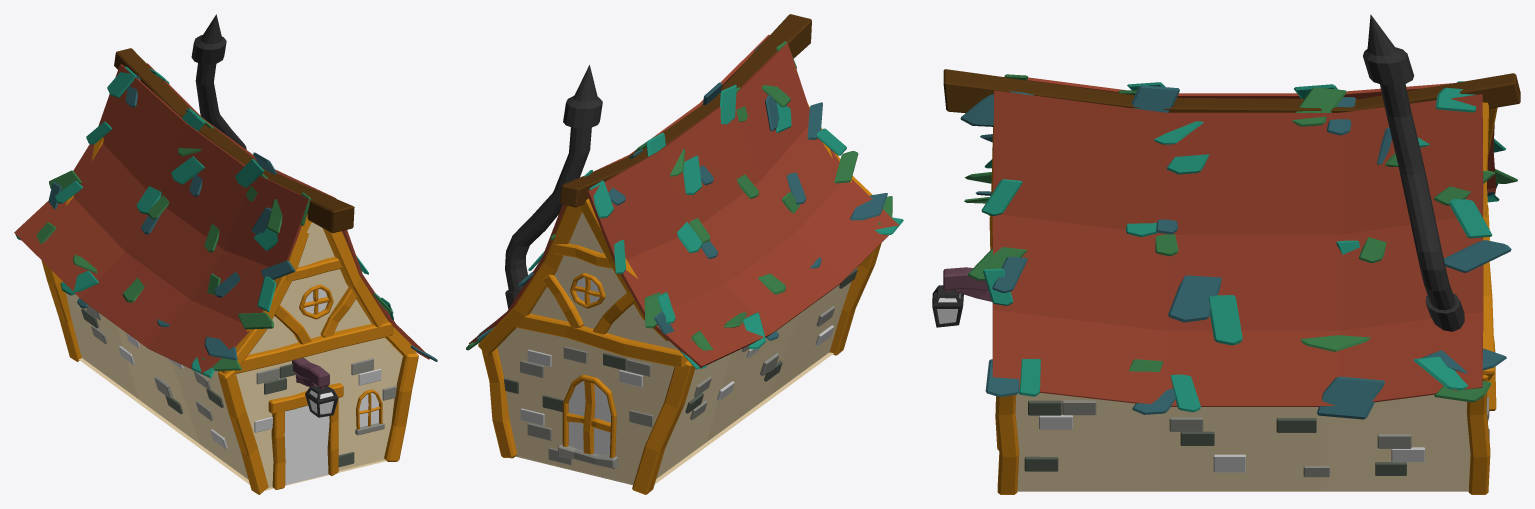
Rendered from lowpoly_cottagehouse1.fbx.
3 views of the same model, side by side, from view 1: azimuth 30°, elevation 25°; view 2: azimuth 150°, elevation 25°; view 3: azimuth 270°, elevation 25° (orthographic). The views are drawn at different scales.
Parts seen in each view (by area): view 1: Roof2, Wall1, Wall4, Cube.183, Plane.031, Beam.006, Cylinder.001, Beam.003, Beam.010, Beam.002, Beam.011, Cube.176 (+16 smaller); view 2: Roof2, Wall3, Wall4, Cylinder.001, Cube.183, Cube.177, Cube.176, Cube.178, Beam.001, Plane.025, Beam.003, Plane.024 (+15 smaller); view 3: Roof1, Wall2, Cylinder.001, Cube.183, Cube.317, Beam.002, Beam.001, Roof2, Cube.298, Cube.178, Cube.299, Cube.316 (+18 smaller).
Part boxes in pixels (x1,y1,x2,y2): Roof2: [14, 64, 309, 373]; Wall1: [236, 222, 402, 488]; Wall4: [66, 293, 248, 479]; Cube.183: [114, 48, 354, 233]; Plane.031: [284, 405, 329, 484]; Beam.006: [218, 322, 393, 373]; Cylinder.001: [191, 14, 246, 149]; Beam.003: [218, 370, 268, 494]; Beam.010: [323, 228, 416, 357]; Beam.002: [384, 353, 418, 461]; Beam.011: [235, 214, 311, 370]; Cube.176: [41, 260, 81, 361]; Roof2: [586, 42, 898, 368]; Wall3: [497, 212, 678, 485]; Wall4: [656, 282, 851, 478]; Cylinder.001: [505, 65, 602, 308]; Cube.183: [560, 14, 811, 207]; Cube.177: [515, 313, 687, 368]; Cube.176: [632, 360, 695, 494]; Cube.178: [478, 205, 581, 355]; Beam.001: [481, 348, 516, 458]; Plane.025: [569, 381, 610, 455]; Beam.003: [829, 243, 881, 355]; Plane.024: [562, 374, 616, 457]; Roof1: [992, 90, 1483, 406]; Wall2: [1015, 392, 1470, 491]; Cylinder.001: [1363, 14, 1464, 331]; Cube.183: [943, 69, 1520, 112]; Cube.317: [1317, 376, 1384, 419]; Beam.002: [995, 395, 1019, 494]; Beam.001: [1466, 374, 1490, 494]; Roof2: [1006, 77, 1496, 194]; Cube.298: [1168, 275, 1221, 322]; Cube.178: [1482, 102, 1494, 380]; Cube.299: [1208, 295, 1242, 345]; Cube.316: [1443, 240, 1511, 272].
Bounding box in the file's own units: 361 × 519 × 604.
